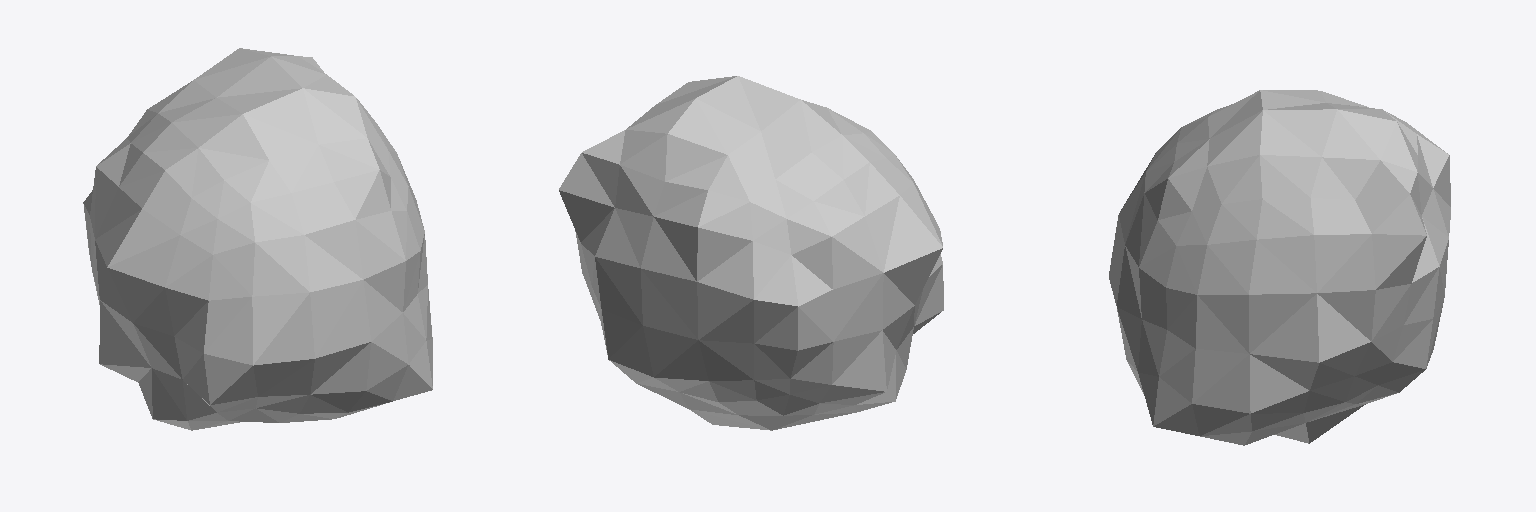
Rendered from rock2.obj.
The picture shows the model from 3 angles: view 1: azimuth 30°, elevation 25°; view 2: azimuth 150°, elevation 25°; view 3: azimuth 270°, elevation 25°; orthographic projection.
Visible parts, largest first — view 1: rock_d_02; view 2: rock_d_02; view 3: rock_d_02.
Boxes of the visible parts, x1=… form: rock_d_02: x1=83, y1=48, x2=432, y2=430; rock_d_02: x1=559, y1=76, x2=943, y2=430; rock_d_02: x1=1109, y1=90, x2=1450, y2=445.
Bounding box in the file's own units: 2.51 × 2.48 × 2.3.